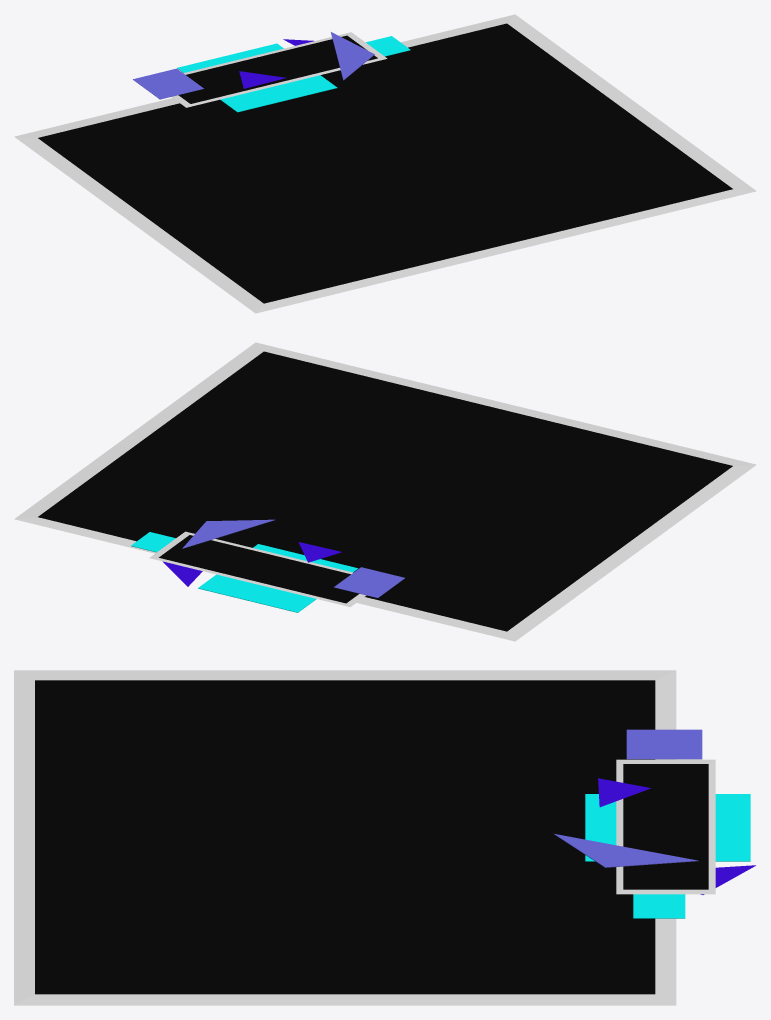
Rendered from FinNiveauInfini.fbx.
3 renders of one model, top to bottom at view 1: azimuth 30°, elevation 25°; view 2: azimuth 150°, elevation 25°; view 3: azimuth 270°, elevation 25°, orthographic. The views are drawn at different scales.
Visible parts, largest first — view 1: Cube, Cube.001, Cube.002, Cube.007, Cube.004, Cube.003; view 2: Cube, Cube.001, Cube.002, Cube.007, Cube.004, Cube.003; view 3: Cube, Cube.001, Cube.002, Cube.007, Cube.004, Cube.003, Cube.005.
Part boxes in pixels (<box>): Cube: <box>14,14,756,313</box>; Cube.001: <box>172,32,387,107</box>; Cube.002: <box>177,43,337,112</box>; Cube.007: <box>133,68,203,99</box>; Cube.004: <box>331,32,374,80</box>; Cube.003: <box>366,36,410,56</box>; Cube: <box>14,342,756,641</box>; Cube.001: <box>149,531,366,607</box>; Cube.002: <box>198,544,358,612</box>; Cube.007: <box>334,567,404,597</box>; Cube.004: <box>182,519,274,548</box>; Cube.003: <box>131,532,175,552</box>; Cube: <box>14,670,676,1005</box>; Cube.001: <box>616,759,715,894</box>; Cube.002: <box>585,794,750,861</box>; Cube.007: <box>626,729,702,759</box>; Cube.004: <box>554,834,698,867</box>; Cube.003: <box>633,894,685,918</box>; Cube.005: <box>598,778,651,807</box>.
Size of the model in its own units: 239 by 9.01 by 224.
